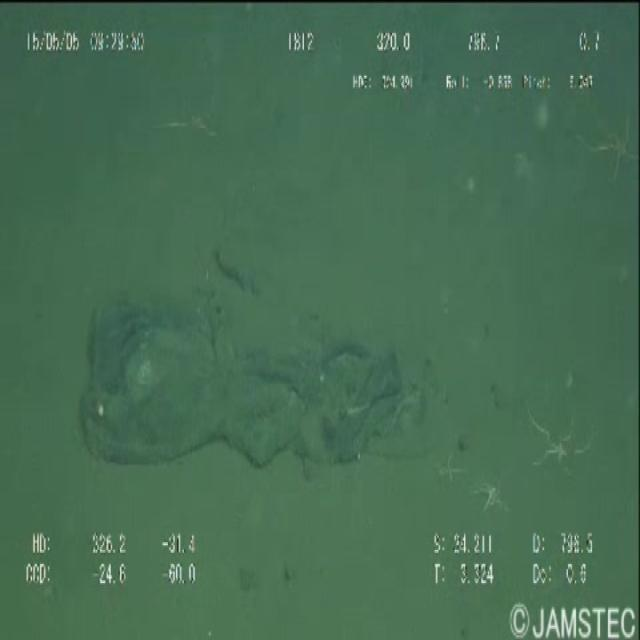Rope: (73, 232, 417, 502)
